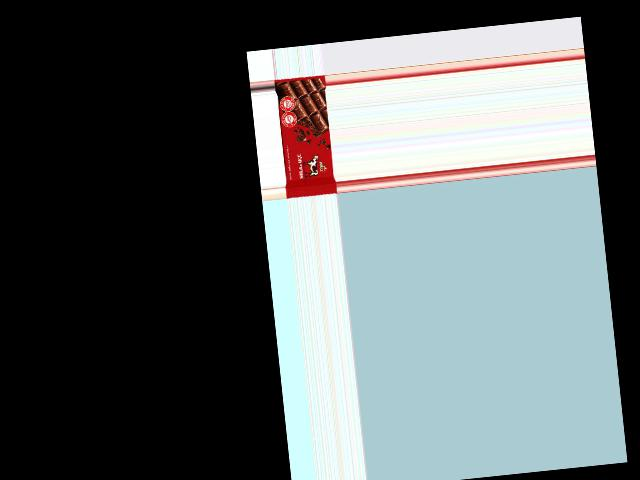chocolate: (273, 75, 336, 197)
